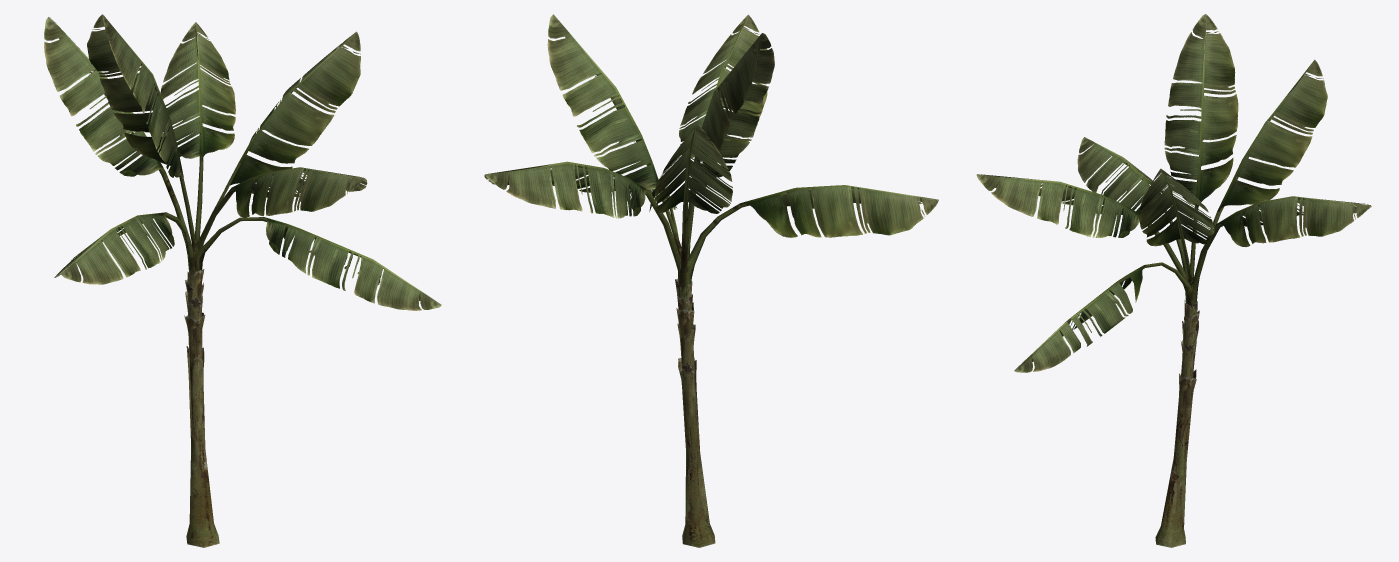
Rendered from banana_palm.obj.
The picture shows the model from 3 angles, left to right: view 1: azimuth 30°, elevation 25°; view 2: azimuth 150°, elevation 25°; view 3: azimuth 270°, elevation 25°; orthographic projection. The views are drawn at different scales.
Visible parts, largest first — view 1: palm_tree; view 2: palm_tree; view 3: palm_tree.
Boxes of the visible parts, left/top/right/bottom form: palm_tree: left=44, top=14, right=441, bottom=547; palm_tree: left=484, top=14, right=938, bottom=547; palm_tree: left=976, top=14, right=1371, bottom=547.
Size of the model in its own units: 9.6 by 13.57 by 10.47.
